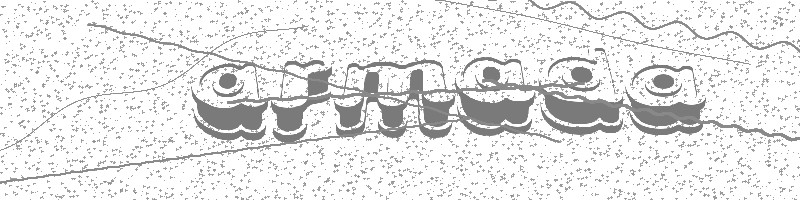a: (451, 56, 536, 136), (189, 61, 270, 142), (623, 62, 706, 136)
d: (535, 45, 624, 136)
m: (332, 60, 452, 138)
r: (270, 58, 333, 143)
